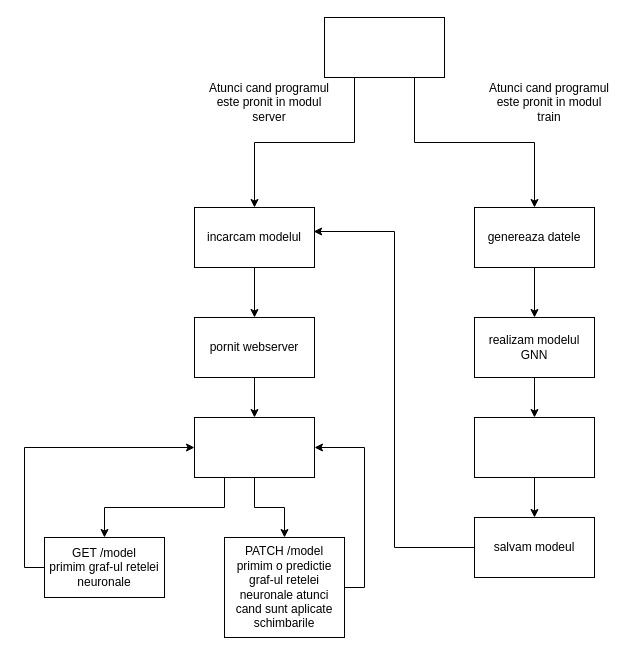
Image size: 632x655. Some labels were removed from this diagram. Here are the shapes that lost their labels. From the top down, the centre of each, then its label:
[384,47]: start program
[254,447]: idle
[534,447]: antrenam reteaua neuronala
